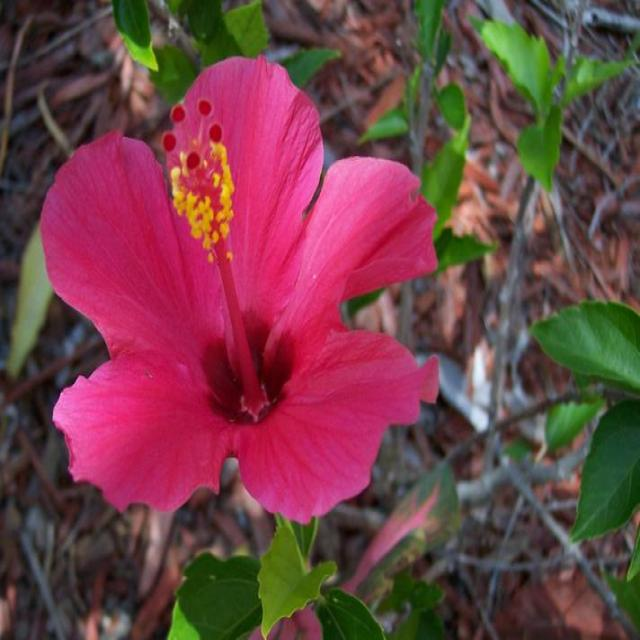hibiscus: (33, 20, 454, 638)
